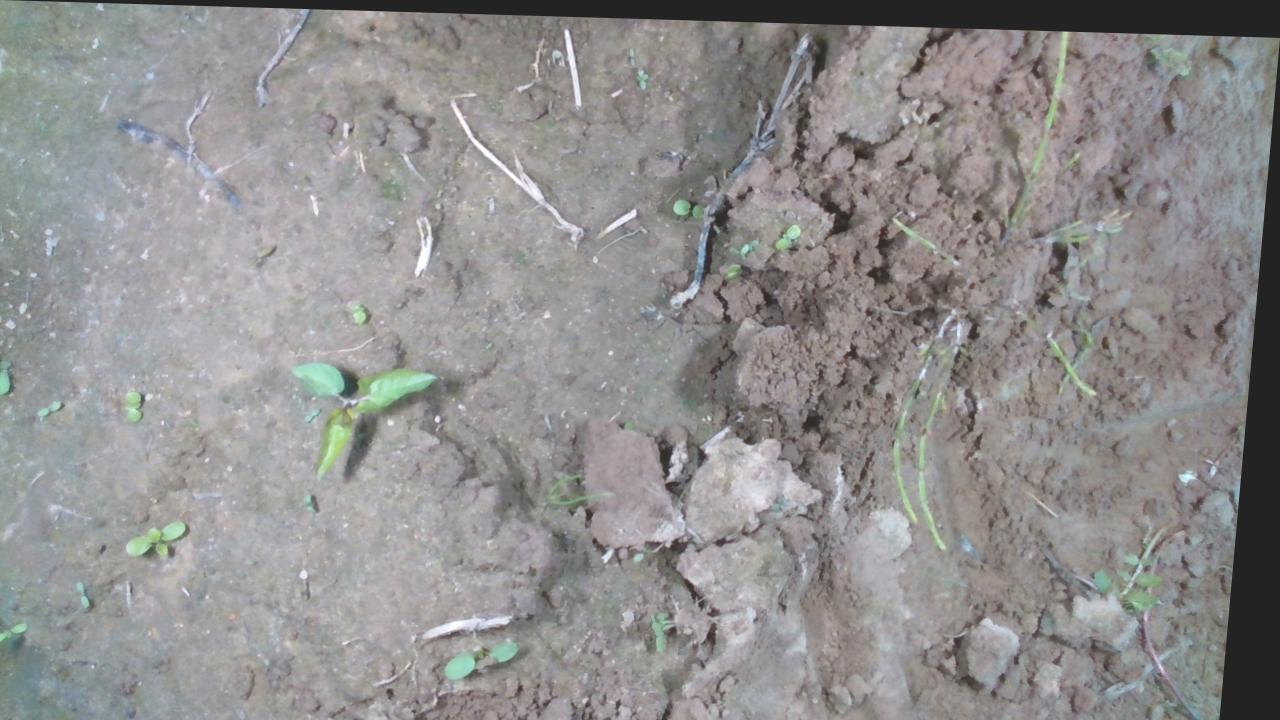weed: (453, 633, 531, 678), (130, 515, 195, 558), (0, 618, 40, 645), (0, 349, 20, 396), (127, 389, 152, 425), (776, 215, 806, 245), (674, 192, 712, 213), (83, 578, 103, 609), (42, 397, 70, 417), (0, 467, 6, 497)
